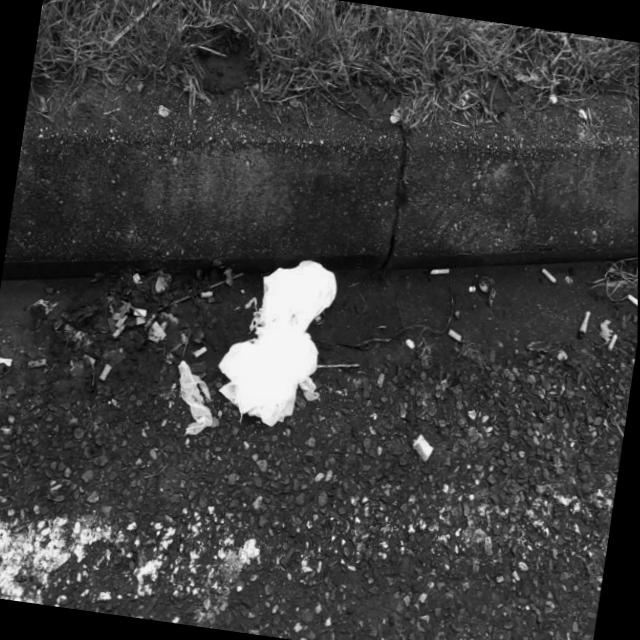Paper: (207, 241, 341, 436)
